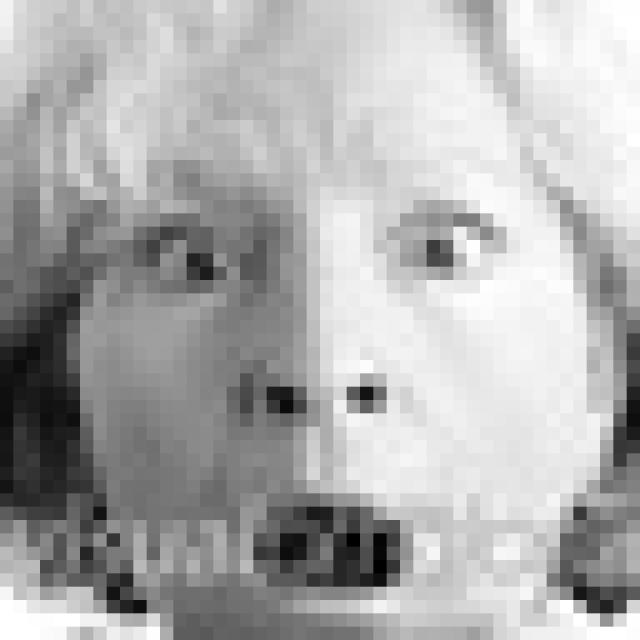surprise: (120, 159, 532, 625)
